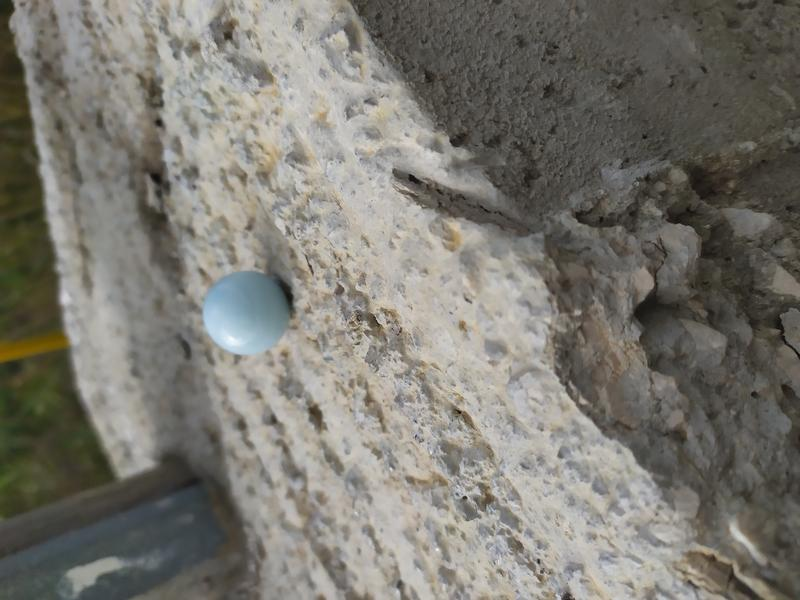Warning: (199, 265, 294, 358)
